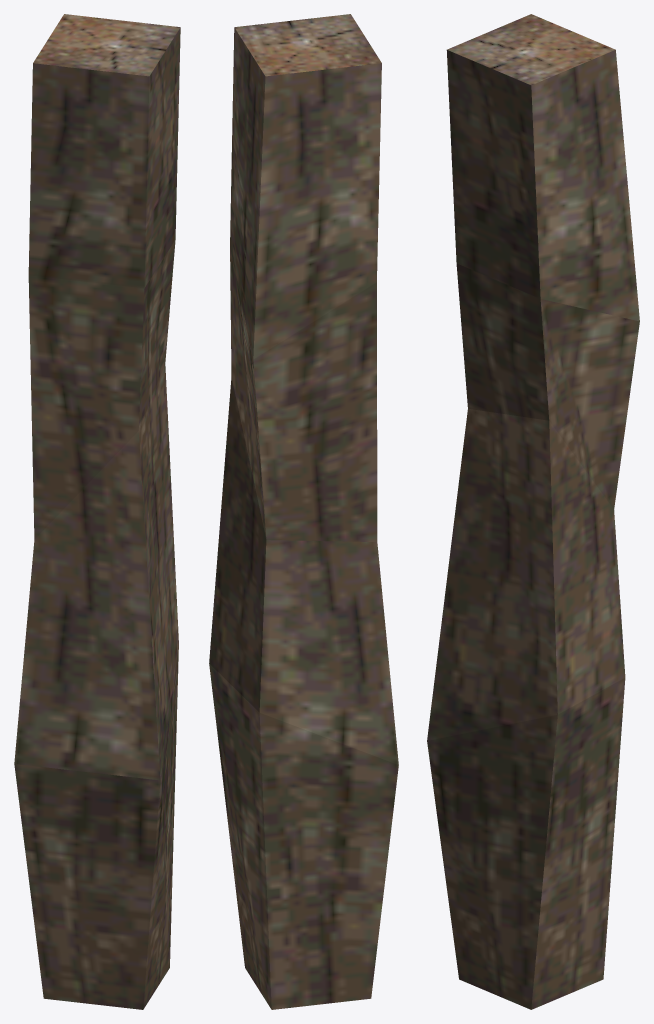
Rendered from Urban_WoodenFencePole_Model.fbx.
The picture shows the model from 3 angles, left to right: view 1: azimuth 30°, elevation 25°; view 2: azimuth 150°, elevation 25°; view 3: azimuth 270°, elevation 25°; orthographic projection.
Visible parts, largest first — view 1: Urban_WoodenFencePole_Mesh; view 2: Urban_WoodenFencePole_Mesh; view 3: Urban_WoodenFencePole_Mesh.
Part boxes in pixels (x1,y1,x2,y2): Urban_WoodenFencePole_Mesh: (14, 14, 180, 1009); Urban_WoodenFencePole_Mesh: (209, 14, 398, 1009); Urban_WoodenFencePole_Mesh: (427, 14, 639, 1009).
Size of the model in its own units: 0.237 by 1.2 by 0.2488.
